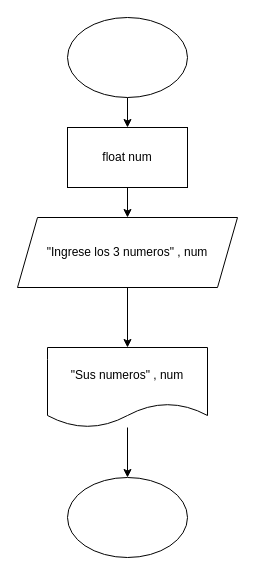
The diagram is 255 pixels wide and 575 high, and some of its shapes have lost their labels. Each missing label, with the centre of its shape:
FIN: (x=127, y=517)
incio: (x=127, y=57)
